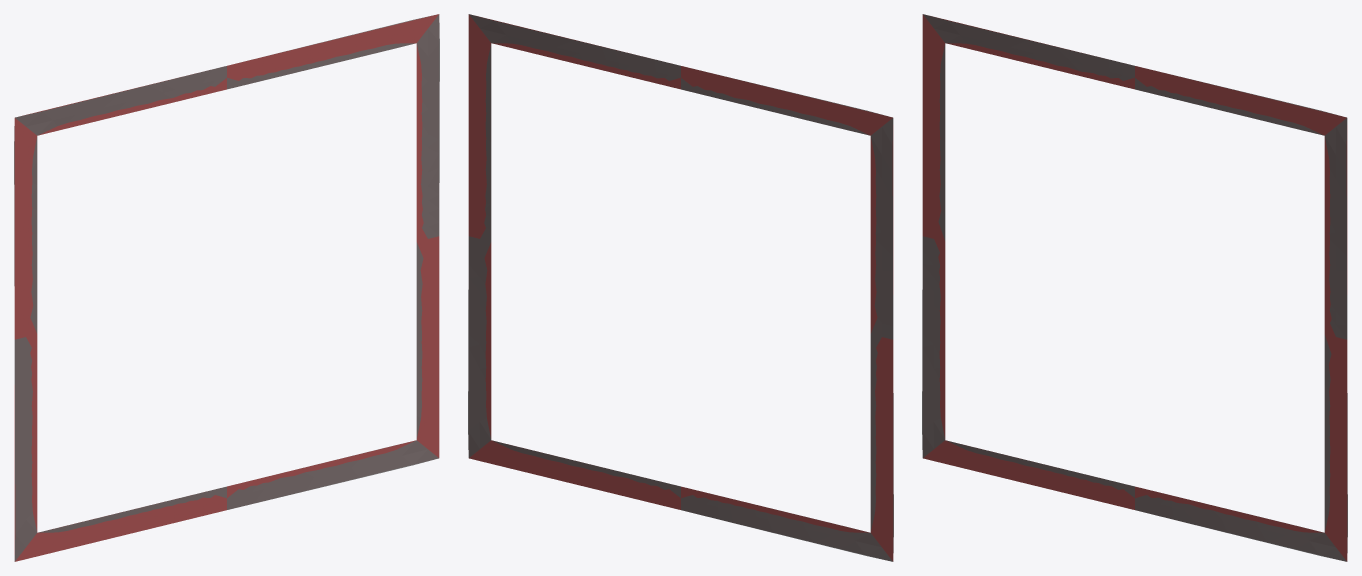
File: warping-rhs-150-150-8-0-0-264.glb
3 renders of one model, left to right at view 1: azimuth 30°, elevation 25°; view 2: azimuth 150°, elevation 25°; view 3: azimuth 330°, elevation 25°, orthographic.
Parts seen in each view (by area): view 1: undeformed cross-section, cross-section with warping; view 2: undeformed cross-section, cross-section with warping; view 3: undeformed cross-section, cross-section with warping.
Boxes of the visible parts, x1,y1,x2,y2 form: undeformed cross-section: [14, 14, 439, 561]; cross-section with warping: [14, 14, 439, 561]; undeformed cross-section: [468, 14, 893, 561]; cross-section with warping: [468, 14, 893, 561]; undeformed cross-section: [922, 14, 1347, 561]; cross-section with warping: [922, 14, 1347, 561].
Size of the model in its own units: 0.15 by 0.15 by 0.000722.
